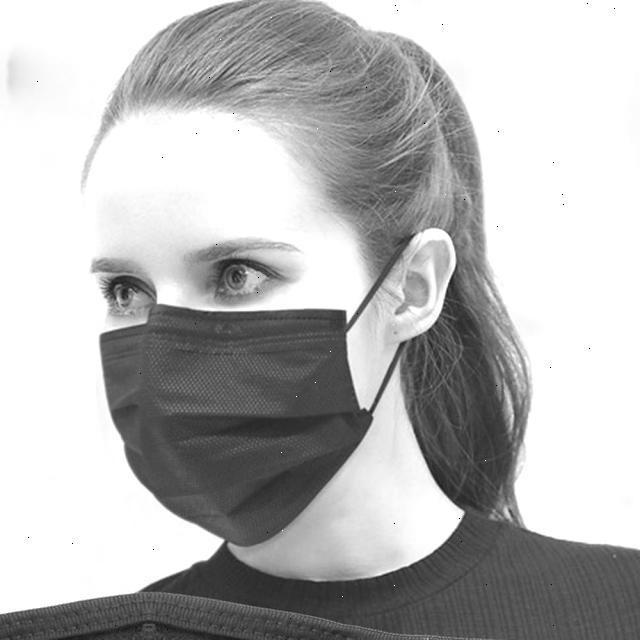fake: (91, 312, 392, 548)
real: (84, 106, 376, 550)
